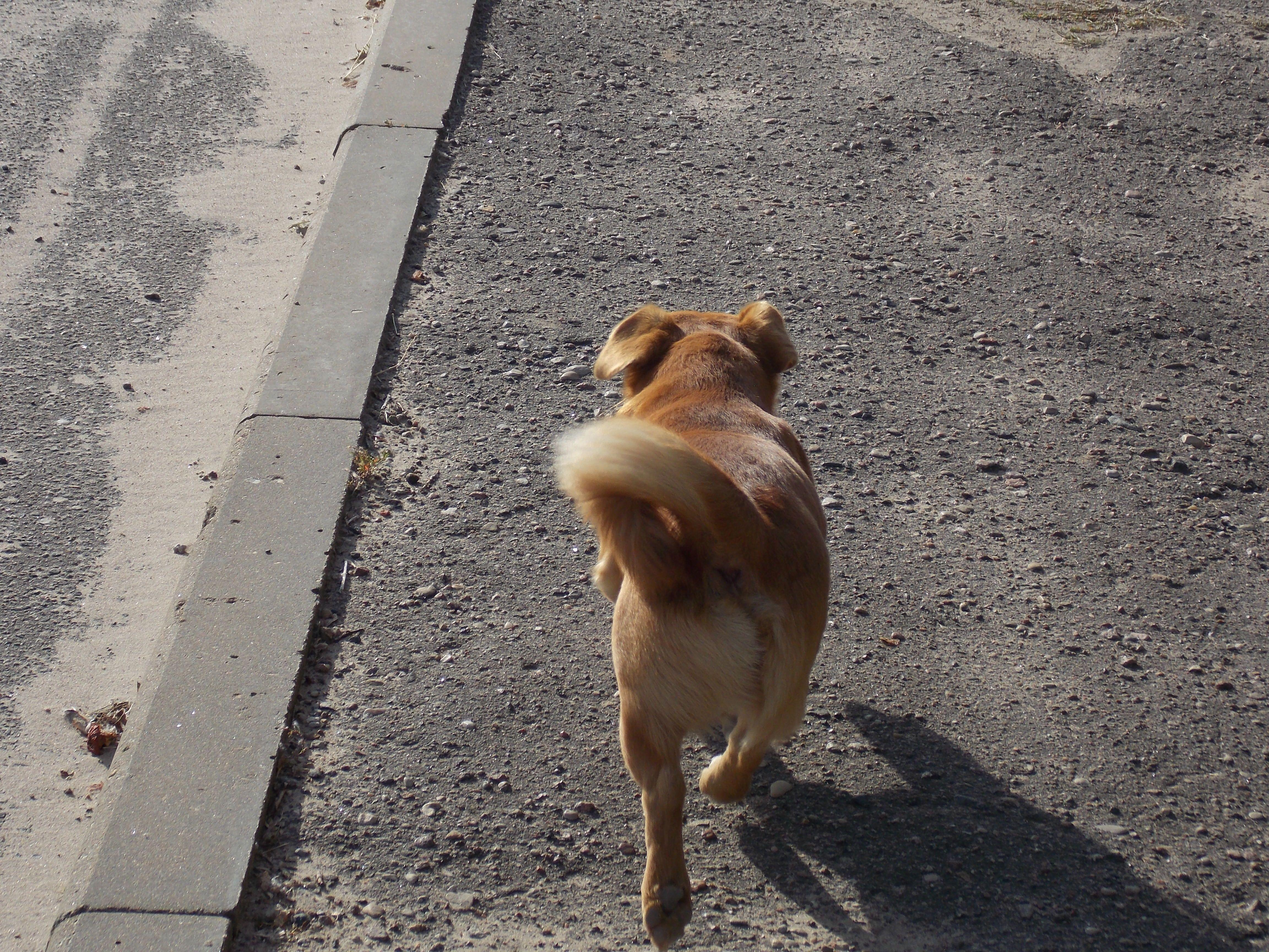adult_dog: (549, 300, 831, 950)
